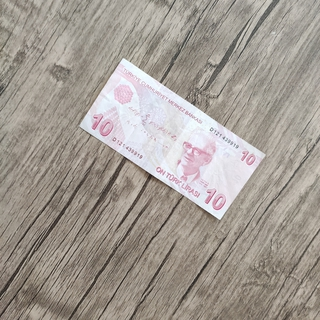10TLBack: (77, 56, 268, 222)
